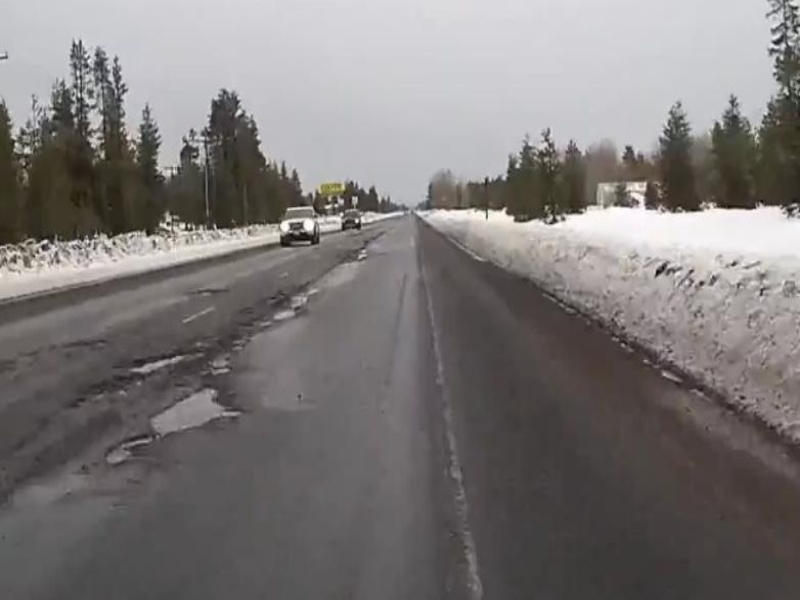pothole: (150, 380, 230, 439), (126, 346, 199, 378), (97, 431, 156, 470)
